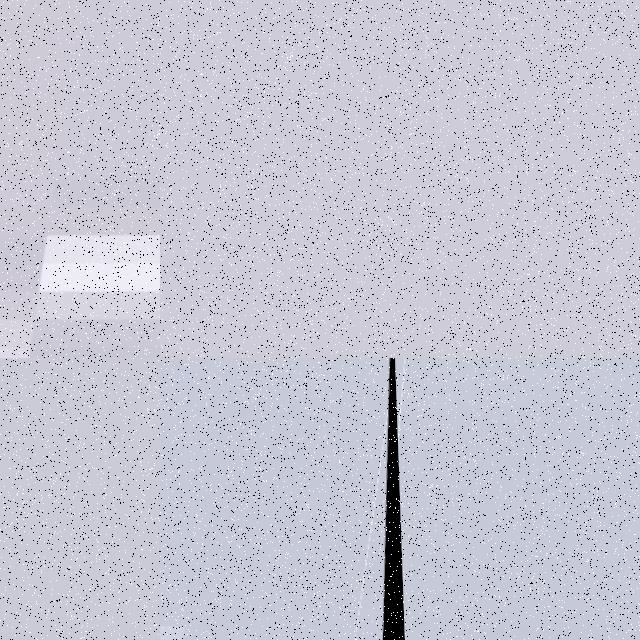drone: (160, 358, 408, 640), (0, 0, 160, 358)
